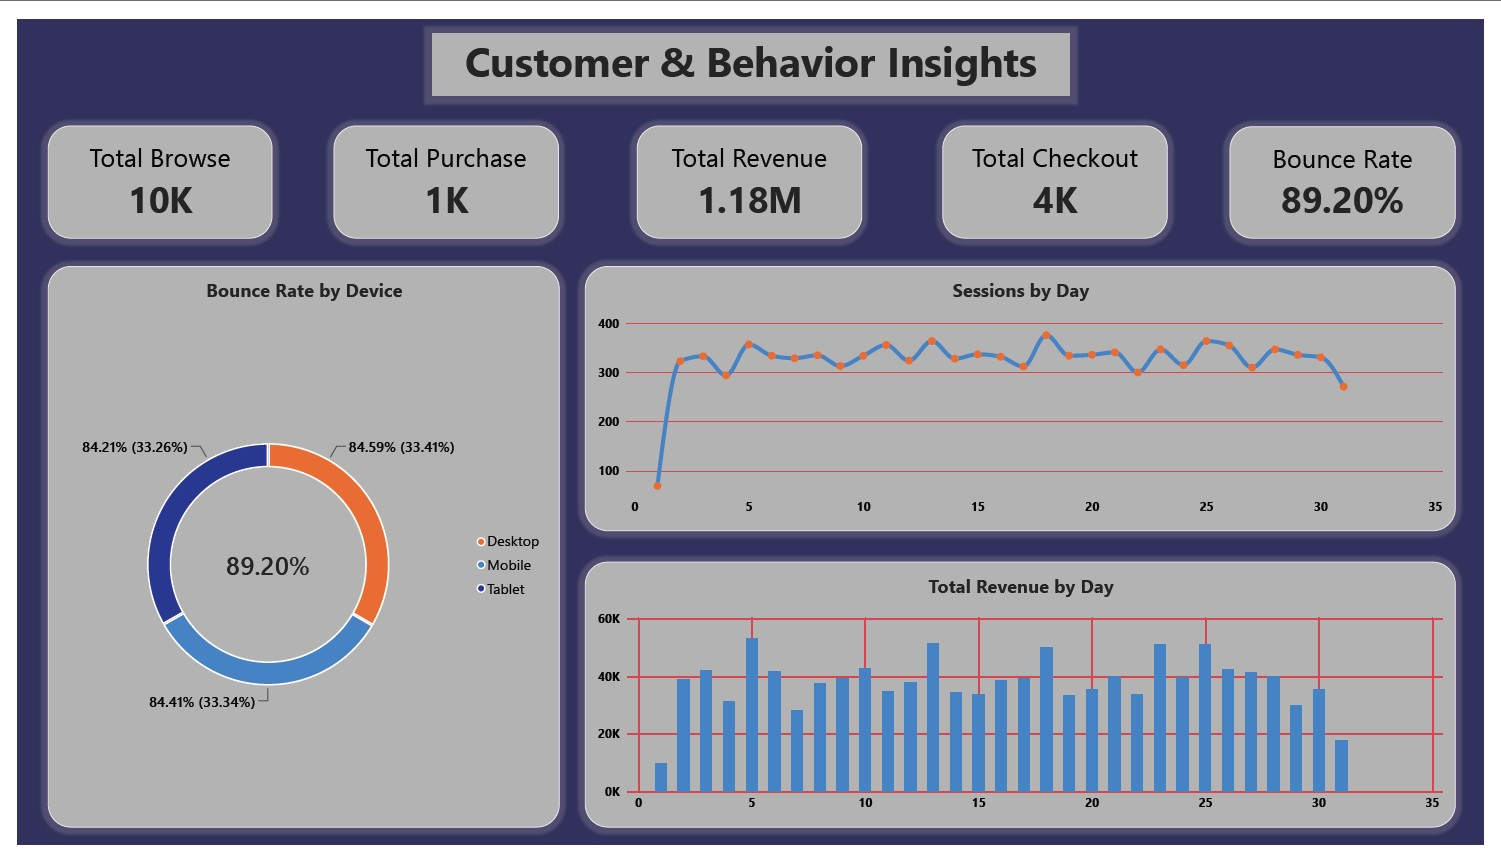

The page's visual inventory and layout, read from the dashboard file:
{"tool":"powerbi","page":{"name":"Page 3","canvas":[1920,1080],"ordinal":2},"visuals":[{"type":"textbox","box":[542.5,17.5,835,82.5],"z":0},{"type":"donutChart","title":"Bounce Rate by Device","fields":{"Category":["funnel_analysis_data.Device"],"Y":["funnel_analysis_data.Bounce Rate"]},"box":[40,322.8,670,735],"z":1000},{"type":"clusteredColumnChart","fields":{"Y":["funnel_analysis_data.Total Revenue"],"Category":["funnel_analysis_data.Date.Variation.Date Hierarchy.Day"]},"box":[742.5,710.3,1140,347.5],"z":2000},{"type":"lineChart","title":"Sessions by Day","fields":{"Category":["funnel_analysis_data.Date.Variation.Date Hierarchy.Day"],"Y":["funnel_analysis_data.Total User"]},"box":[742.5,322.8,1140,347.5],"z":3000},{"type":"cardVisual","fields":{"Data":["funnel_analysis_data.Total Browse"]},"box":[40,139.3,294,147.3],"z":4000},{"type":"cardVisual","fields":{"Data":["funnel_analysis_data.Total Purchase"]},"box":[413.8,139.5,295,147.5],"z":5000},{"type":"cardVisual","fields":{"Data":["funnel_analysis_data.Total Checkout"]},"box":[1211.3,139.5,295,147.5],"z":6000},{"type":"cardVisual","fields":{"Data":["funnel_analysis_data.Total Revenue"]},"box":[811.3,139.5,295,147.5],"z":7000},{"type":"cardVisual","fields":{"Data":["funnel_analysis_data.Bounce Rate"]},"box":[1586.7,140,296.7,146.7],"z":8000}]}

Visuals, with their boxes in screenshot pixels (x1, y1, x2, y2), scaled from the page's 1920x1080 canvas onto the 1501x862 screenshot:
textbox: 424 14 1077 80
"Bounce Rate by Device" donutChart: 31 258 555 844
clusteredColumnChart - funnel_analysis_data.Total Revenue x funnel_analysis_data.Date.Variation.Date Hierarchy.Day: 580 567 1472 844
"Sessions by Day" lineChart: 580 258 1472 535
cardVisual - funnel_analysis_data.Total Browse: 31 111 261 229
cardVisual - funnel_analysis_data.Total Purchase: 323 111 554 229
cardVisual - funnel_analysis_data.Total Checkout: 947 111 1178 229
cardVisual - funnel_analysis_data.Total Revenue: 634 111 865 229
cardVisual - funnel_analysis_data.Bounce Rate: 1240 112 1472 229
